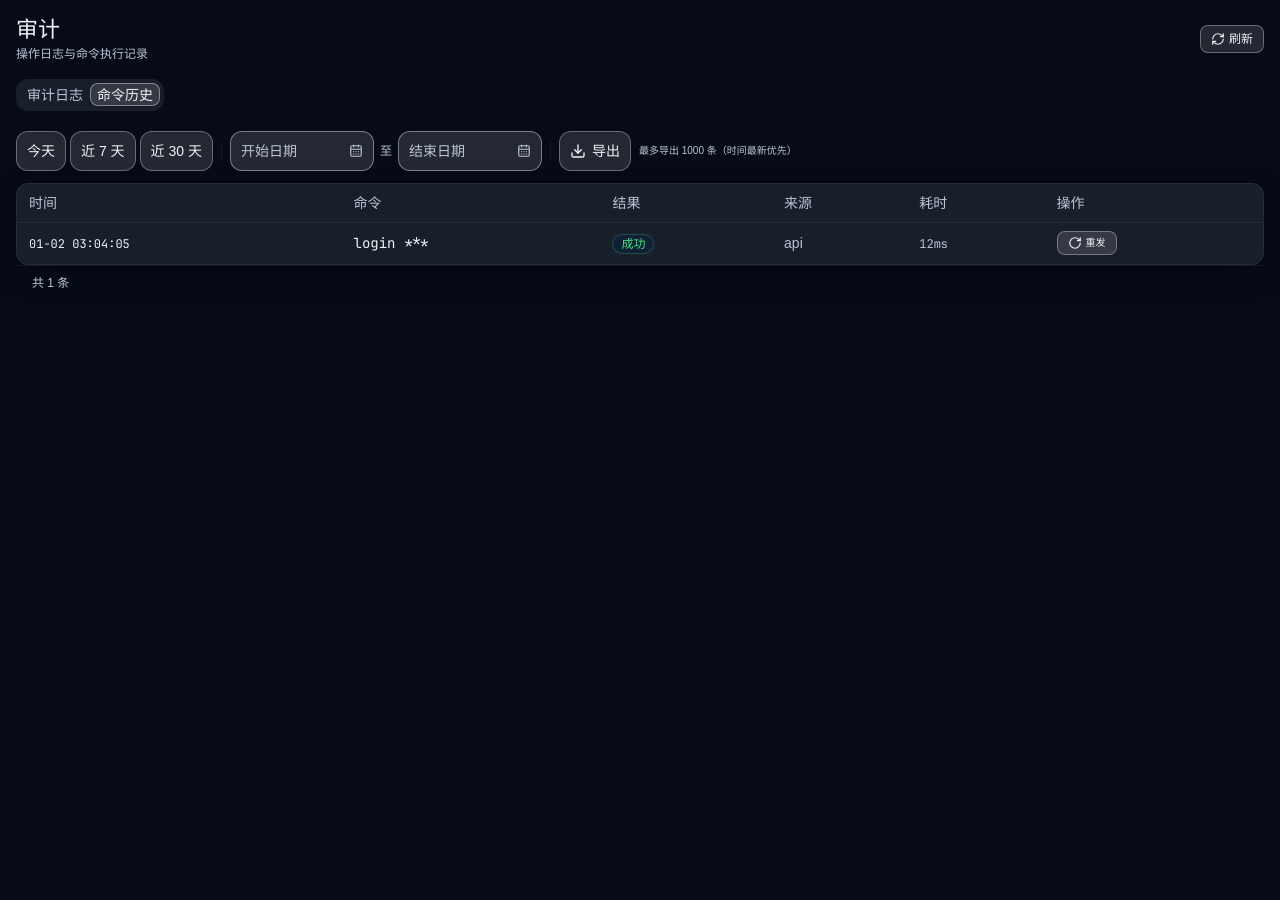
Test: AuditPage 命令重发 › 含被遮蔽敏感值的行改口径提示（重发遮蔽文本多半失败，不假装等价）
Click the button with aria-label "重发命令 login ***".
click(1087, 243)  # box [1057,231,1117,255]
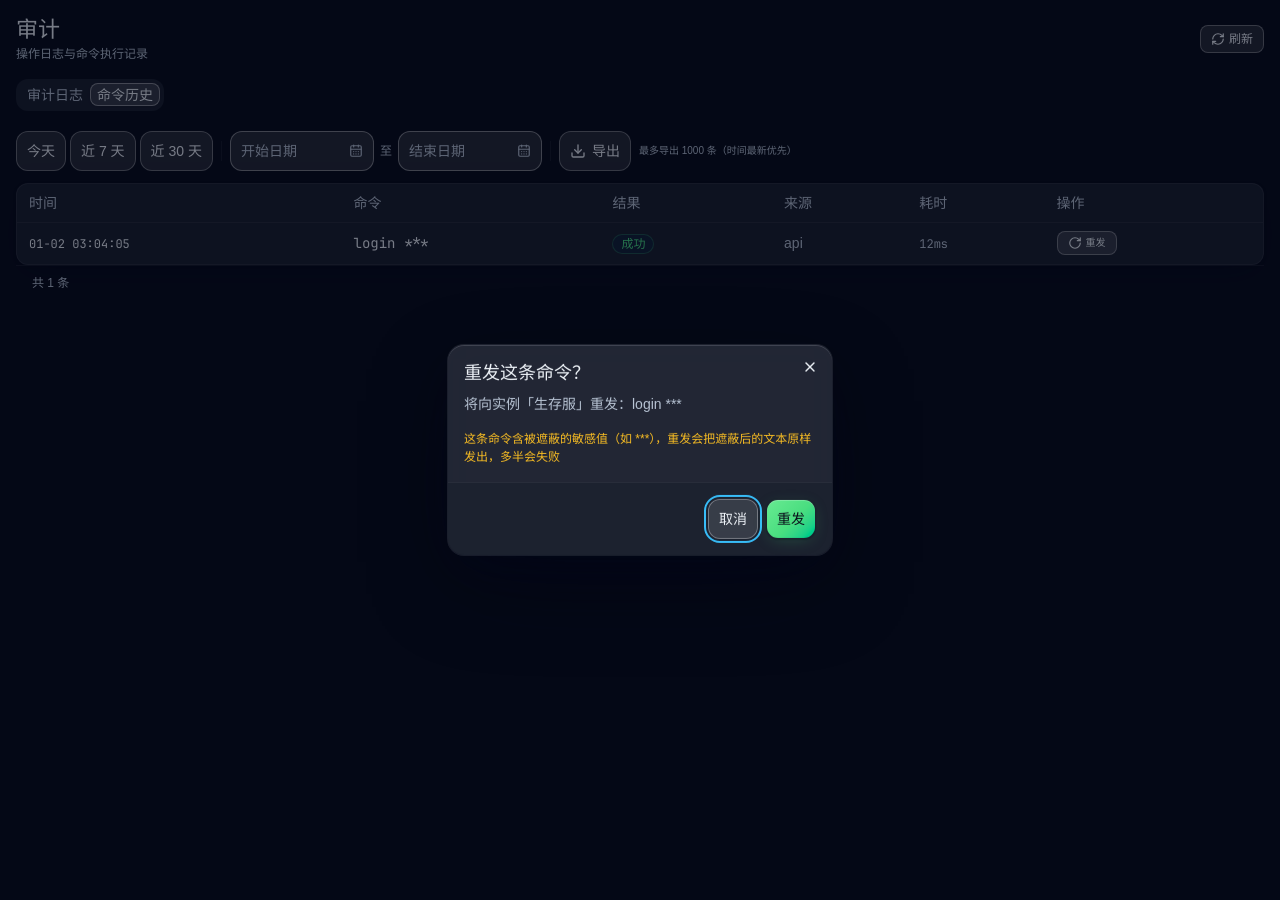
Expected: the text "这条命令含被遮蔽的敏感值（如 ***），重发会把遮蔽后的文本原样发出，多半会失败" is shown, [464,430,816,466]
